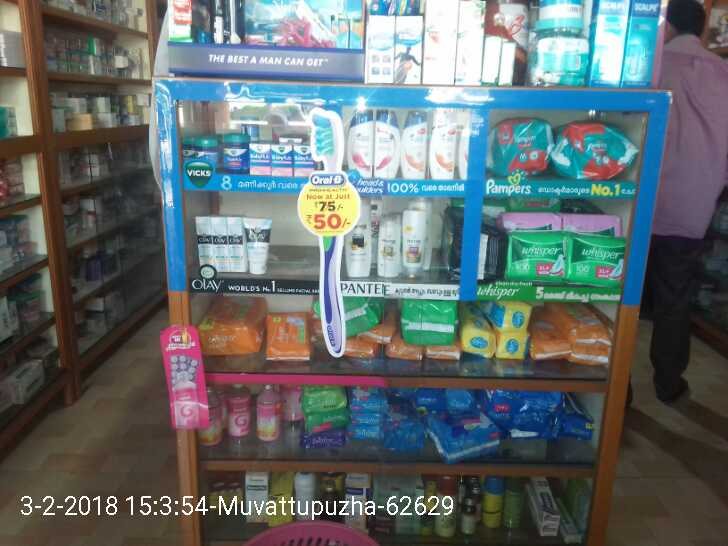vicks: (185, 116, 317, 182)
